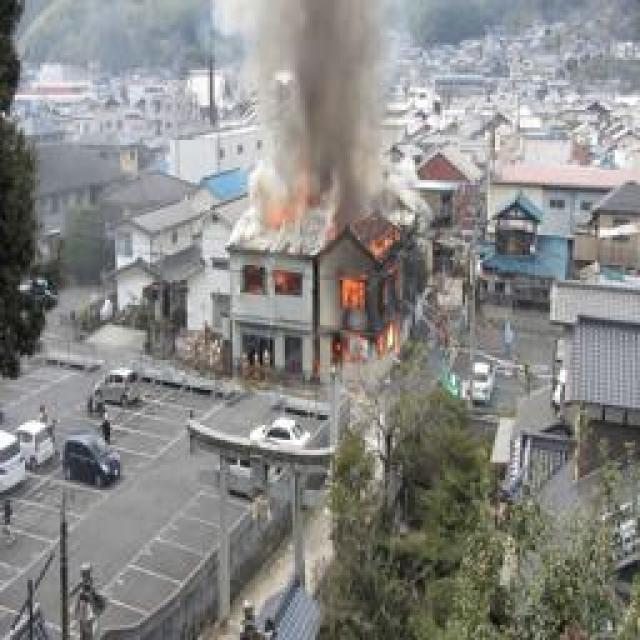Fire: (338, 230, 410, 369), (272, 270, 305, 297)
